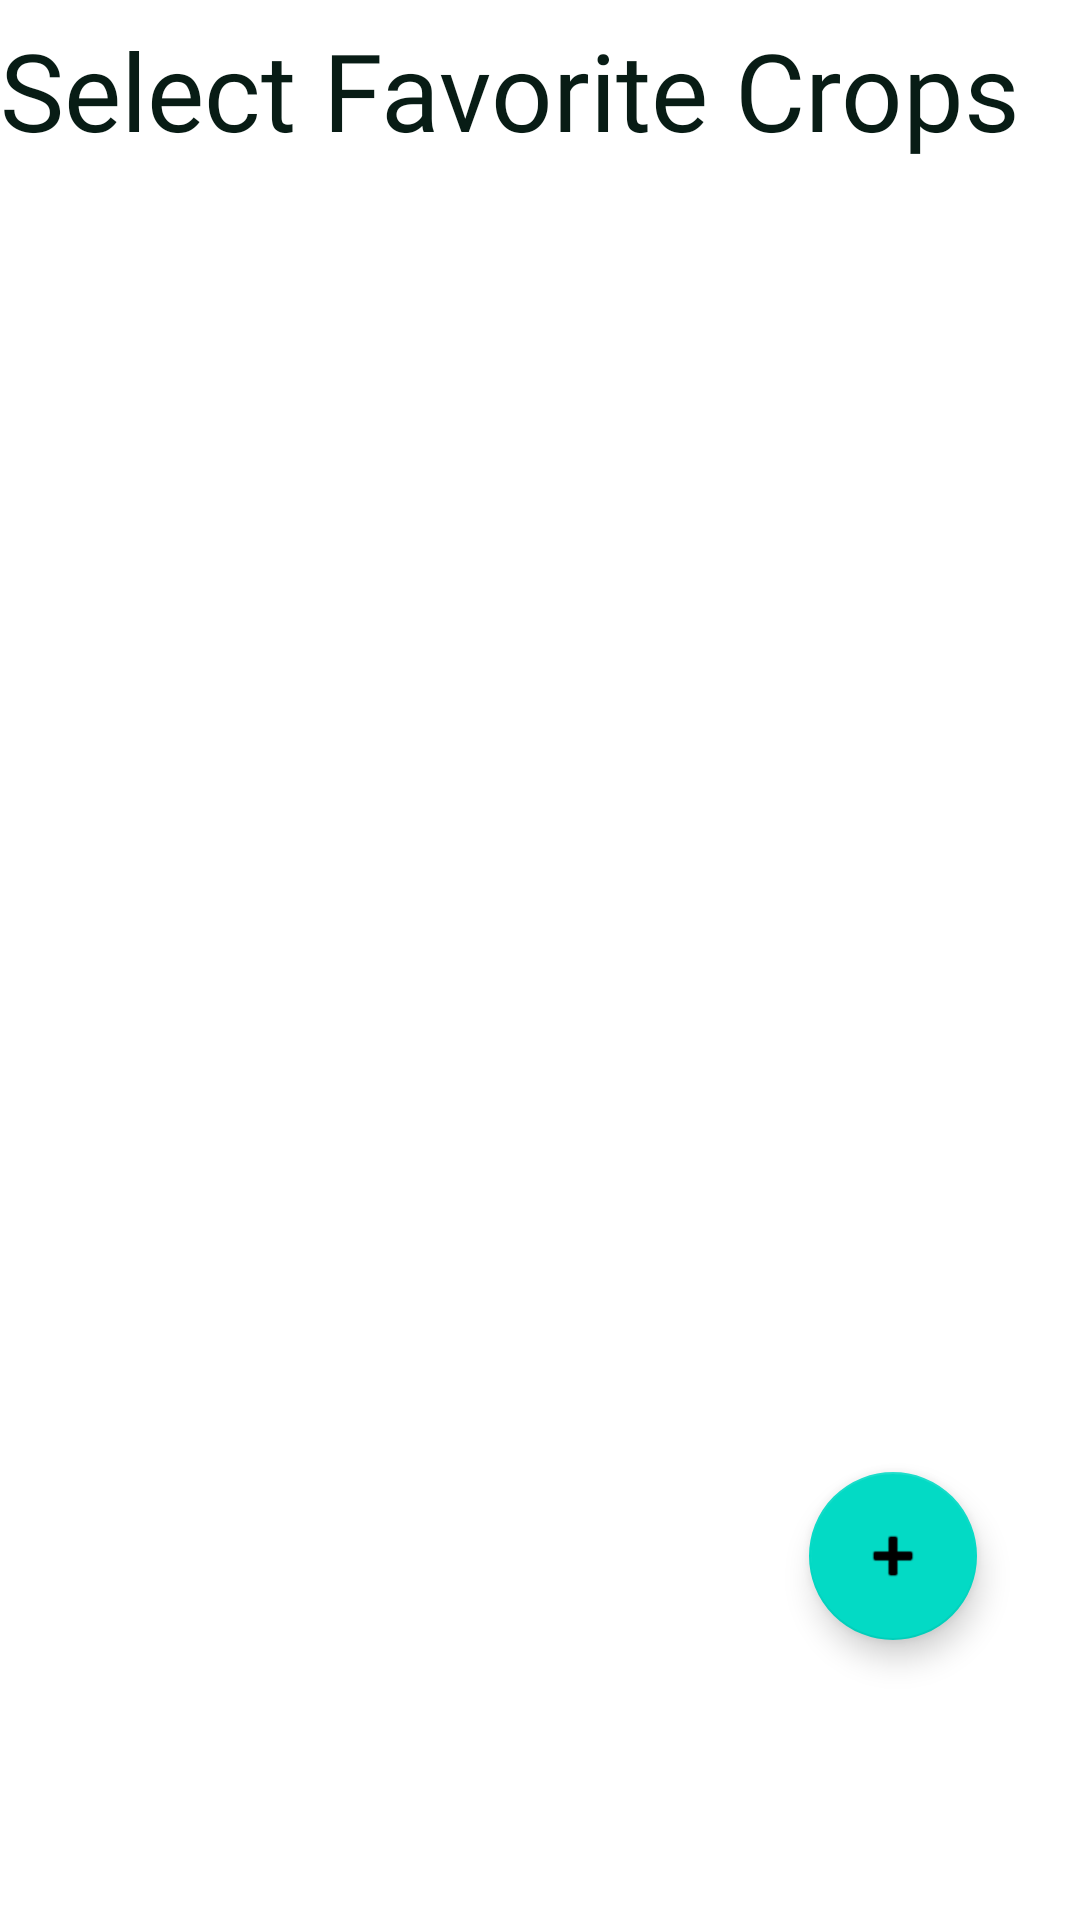

Icon bounding boxes for this 1080px×1920px phone screenshot, format BBox(x1, y1, x2, y2):
add: BBox(809, 1472, 977, 1640)
